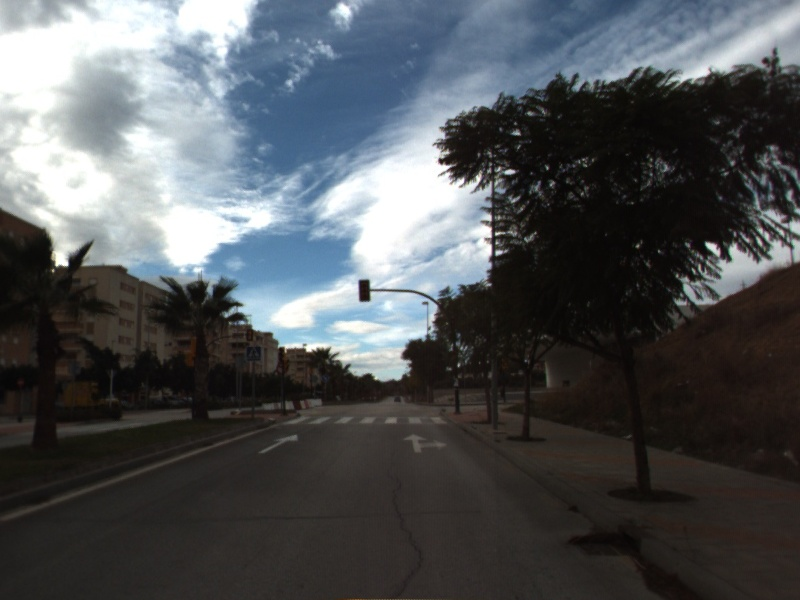STRAIGHT: (256, 433, 300, 455)
STRAIGHT_RIGHT: (401, 431, 449, 455)
